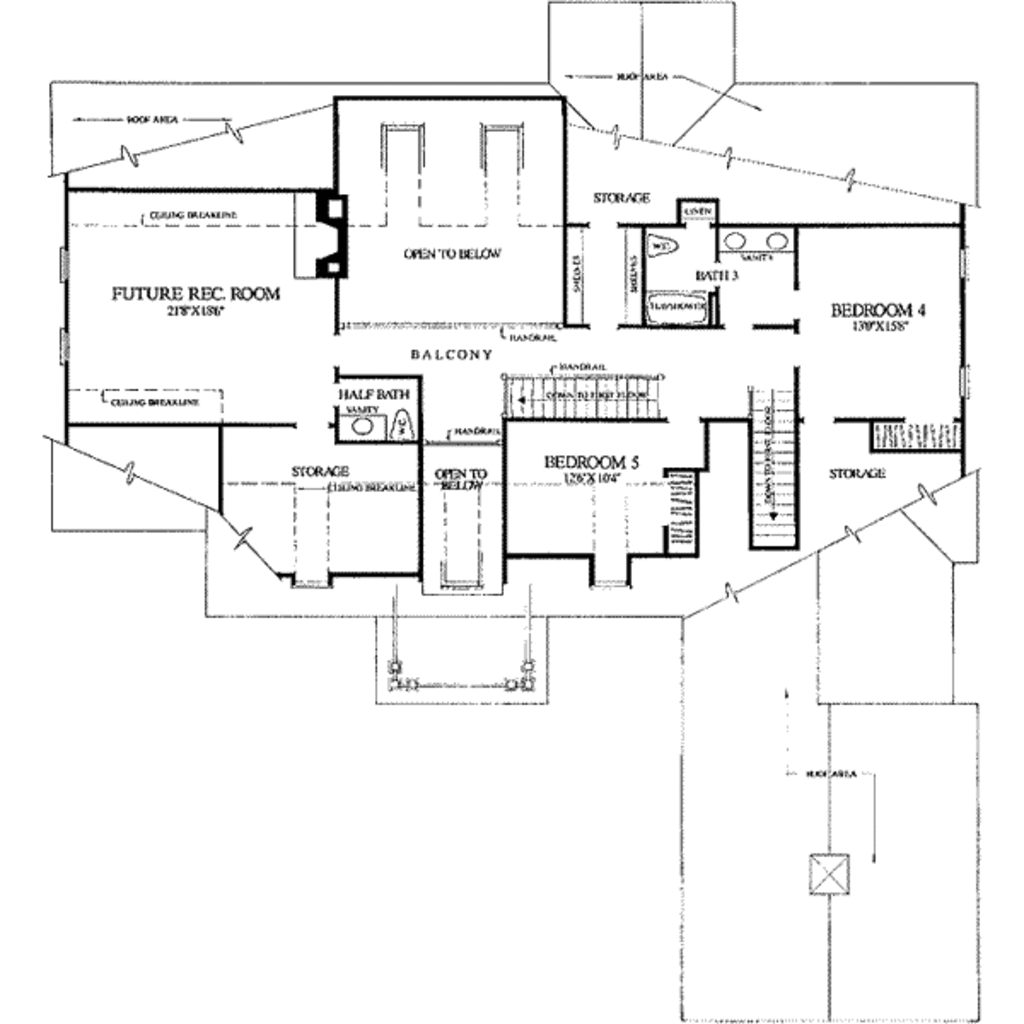small_sink: (718, 224, 803, 255), (329, 414, 385, 444)
stairs: (745, 383, 801, 553), (500, 372, 667, 426)
tub: (646, 289, 721, 332)
